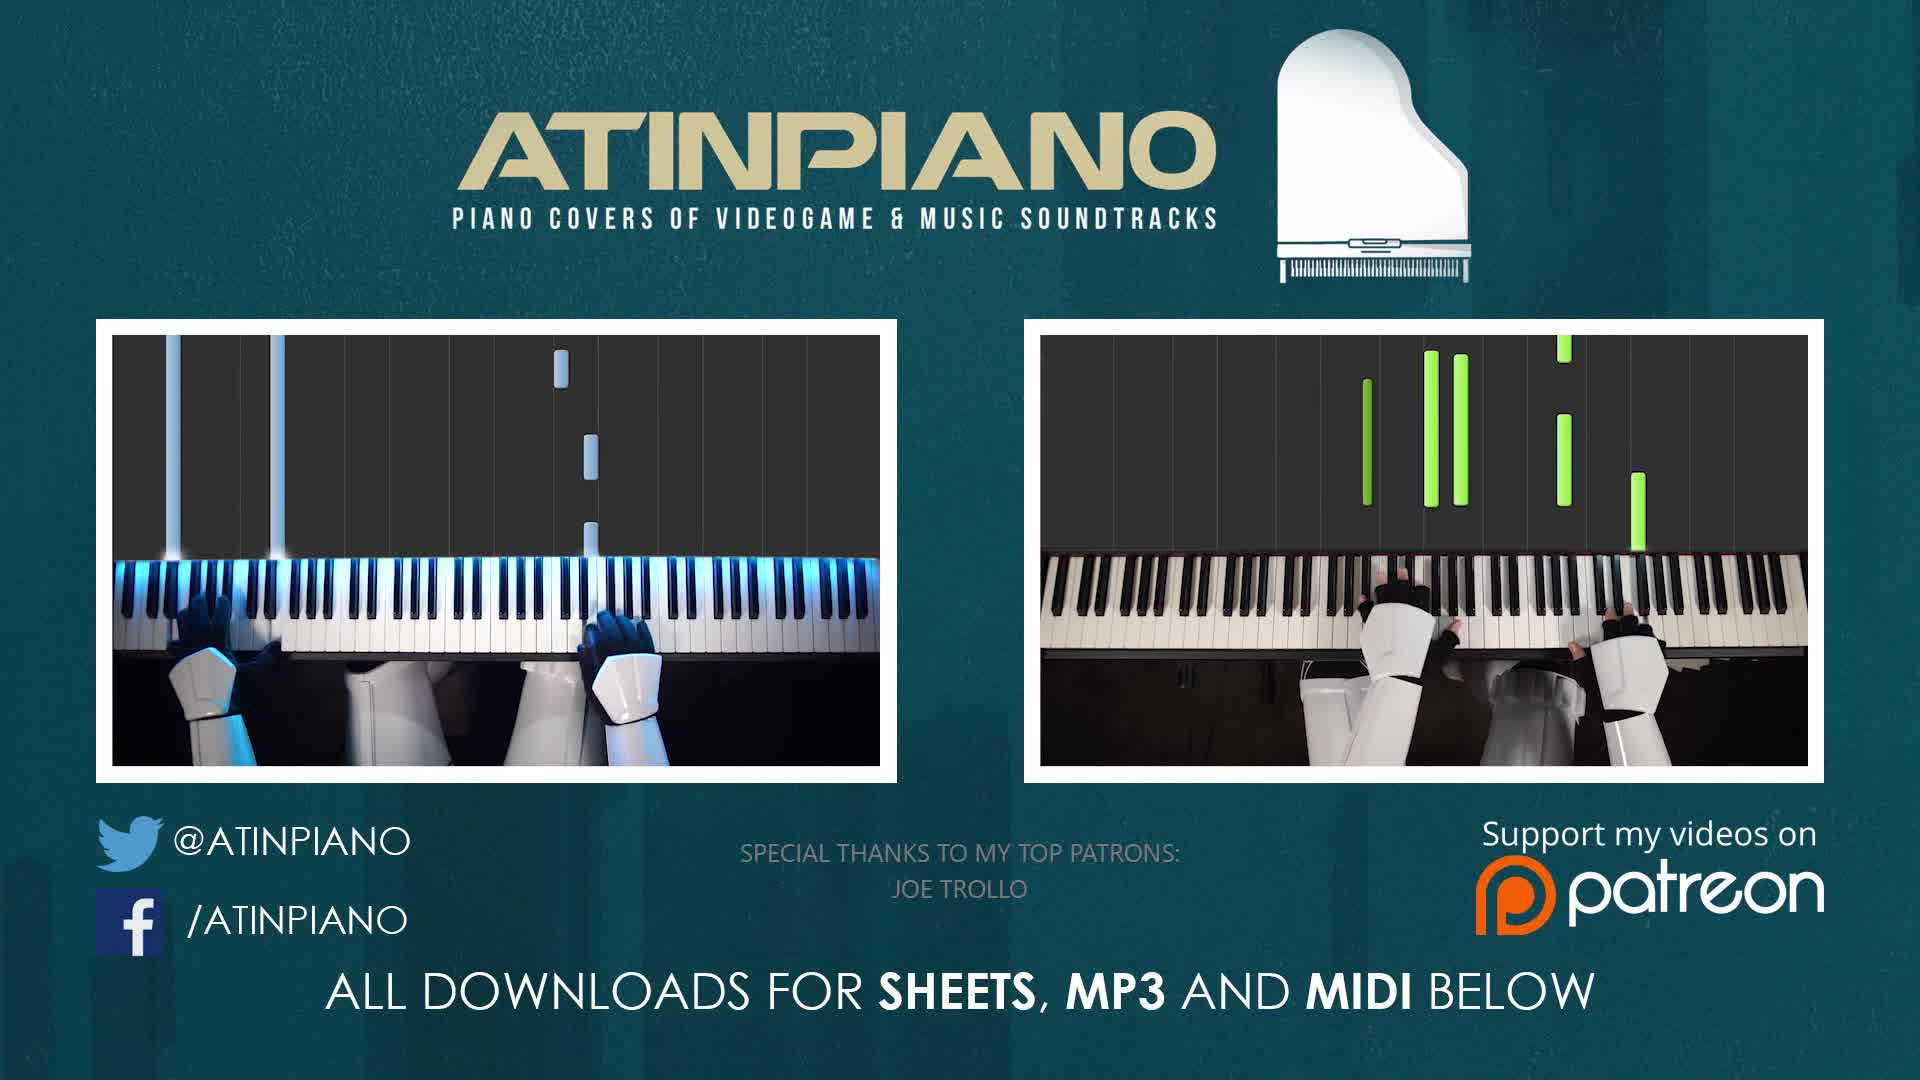left: (160, 593, 293, 731), (1350, 560, 1464, 684)
right: (1565, 601, 1671, 729), (578, 609, 667, 729)
